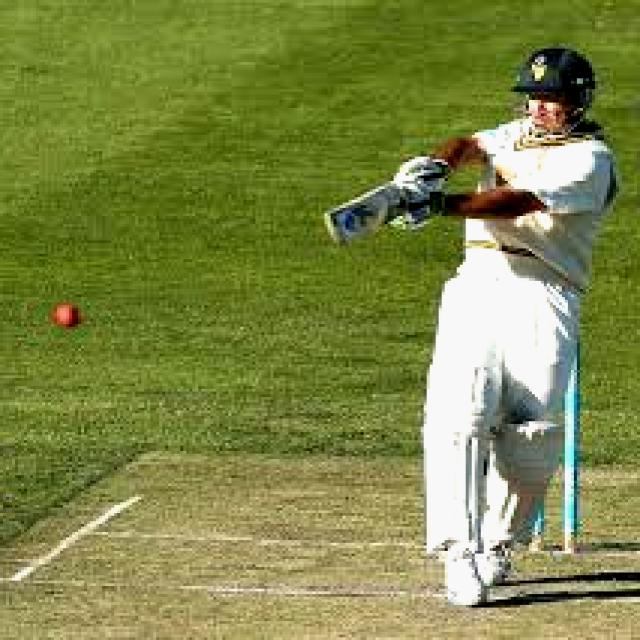toe: (318, 209, 349, 250)
